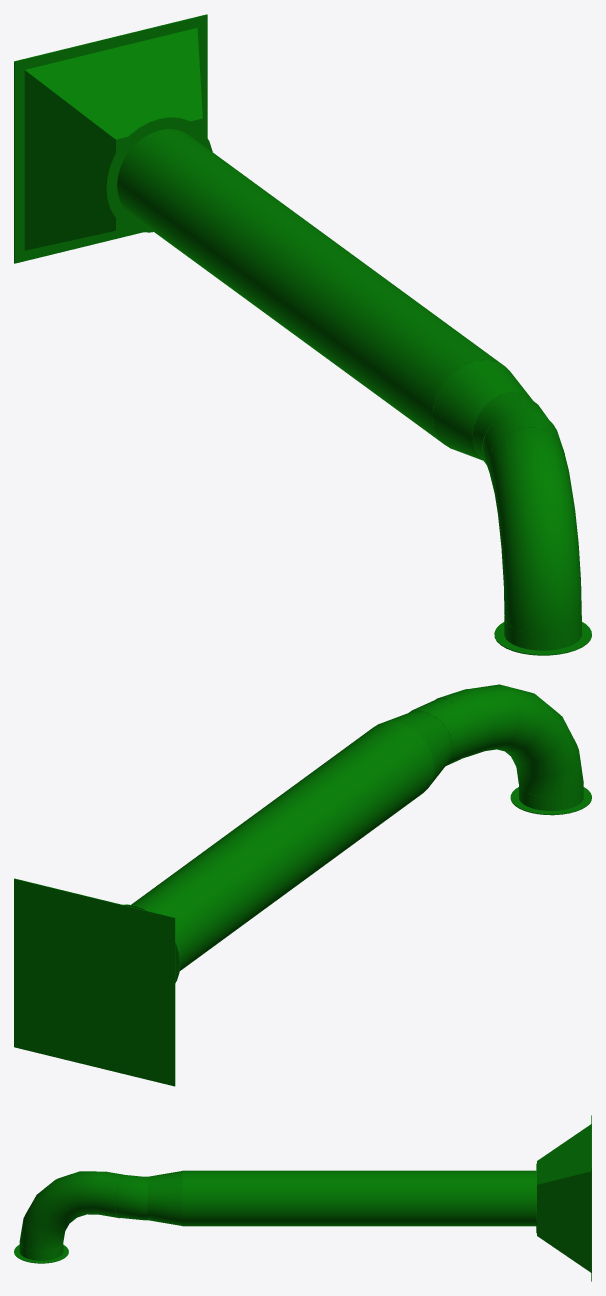
The model's file is Image-1710907700850-2280725732608_77-GA54-EXT-DUCT-CER.fbx.
3 views of the same model, one above another, from view 1: azimuth 30°, elevation 25°; view 2: azimuth 150°, elevation 25°; view 3: azimuth 270°, elevation 25° (orthographic). The views are drawn at different scales.
Visible parts, largest first — view 1: CYLINDER 3 of EQUIPMENT /77-GA54-EXT-DUCT-CER, PYRAMID 1 of EQUIPMENT /77-GA54-EXT-DUCT-CER, CTORUS 1 of EQUIPMENT /77-GA54-EXT-DUCT-CER, BOX 1 of EQUIPMENT /77-GA54-EXT-DUCT-CER, CONE 1 of EQUIPMENT /77-GA54-EXT-DUCT-CER, CYLINDER 5 of EQUIPMENT /77-GA54-EXT-DUCT-CER, CTORUS 2 of EQUIPMENT /77-GA54-EXT-DUCT-CER, CYLINDER 4 of EQUIPMENT /77-GA54-EXT-DUCT-CER, CYLINDER 1 of EQUIPMENT /77-GA54-EXT-DUCT-CER, CYLINDER 2 of EQUIPMENT /77-GA54-EXT-DUCT-CER; view 2: BOX 1 of EQUIPMENT /77-GA54-EXT-DUCT-CER, CYLINDER 3 of EQUIPMENT /77-GA54-EXT-DUCT-CER, CTORUS 1 of EQUIPMENT /77-GA54-EXT-DUCT-CER, CYLINDER 4 of EQUIPMENT /77-GA54-EXT-DUCT-CER, CONE 1 of EQUIPMENT /77-GA54-EXT-DUCT-CER, CTORUS 2 of EQUIPMENT /77-GA54-EXT-DUCT-CER, CYLINDER 1 of EQUIPMENT /77-GA54-EXT-DUCT-CER, CYLINDER 2 of EQUIPMENT /77-GA54-EXT-DUCT-CER; view 3: CYLINDER 3 of EQUIPMENT /77-GA54-EXT-DUCT-CER, PYRAMID 1 of EQUIPMENT /77-GA54-EXT-DUCT-CER, CTORUS 1 of EQUIPMENT /77-GA54-EXT-DUCT-CER, CONE 1 of EQUIPMENT /77-GA54-EXT-DUCT-CER, CTORUS 2 of EQUIPMENT /77-GA54-EXT-DUCT-CER, CYLINDER 4 of EQUIPMENT /77-GA54-EXT-DUCT-CER, CYLINDER 1 of EQUIPMENT /77-GA54-EXT-DUCT-CER, CYLINDER 2 of EQUIPMENT /77-GA54-EXT-DUCT-CER.
Boxes of the visible parts, x1=… form: CYLINDER 3 of EQUIPMENT /77-GA54-EXT-DUCT-CER: x1=117, y1=129, x2=508, y2=446; PYRAMID 1 of EQUIPMENT /77-GA54-EXT-DUCT-CER: x1=24, y1=28, x2=202, y2=250; CTORUS 1 of EQUIPMENT /77-GA54-EXT-DUCT-CER: x1=488, y1=427, x2=581, y2=633; BOX 1 of EQUIPMENT /77-GA54-EXT-DUCT-CER: x1=14, y1=14, x2=207, y2=263; CONE 1 of EQUIPMENT /77-GA54-EXT-DUCT-CER: x1=432, y1=360, x2=532, y2=460; CYLINDER 5 of EQUIPMENT /77-GA54-EXT-DUCT-CER: x1=105, y1=117, x2=212, y2=232; CTORUS 2 of EQUIPMENT /77-GA54-EXT-DUCT-CER: x1=472, y1=392, x2=548, y2=464; CYLINDER 4 of EQUIPMENT /77-GA54-EXT-DUCT-CER: x1=483, y1=410, x2=562, y2=472; CYLINDER 1 of EQUIPMENT /77-GA54-EXT-DUCT-CER: x1=504, y1=615, x2=581, y2=650; CYLINDER 2 of EQUIPMENT /77-GA54-EXT-DUCT-CER: x1=494, y1=622, x2=591, y2=655; BOX 1 of EQUIPMENT /77-GA54-EXT-DUCT-CER: x1=14, y1=878, x2=175, y2=1086; CYLINDER 3 of EQUIPMENT /77-GA54-EXT-DUCT-CER: x1=131, y1=721, x2=434, y2=970; CTORUS 1 of EQUIPMENT /77-GA54-EXT-DUCT-CER: x1=468, y1=684, x2=583, y2=797; CYLINDER 4 of EQUIPMENT /77-GA54-EXT-DUCT-CER: x1=436, y1=689, x2=494, y2=758; CONE 1 of EQUIPMENT /77-GA54-EXT-DUCT-CER: x1=384, y1=711, x2=452, y2=786; CTORUS 2 of EQUIPMENT /77-GA54-EXT-DUCT-CER: x1=409, y1=698, x2=468, y2=765; CYLINDER 1 of EQUIPMENT /77-GA54-EXT-DUCT-CER: x1=519, y1=784, x2=583, y2=810; CYLINDER 2 of EQUIPMENT /77-GA54-EXT-DUCT-CER: x1=510, y1=787, x2=591, y2=815; CYLINDER 3 of EQUIPMENT /77-GA54-EXT-DUCT-CER: x1=182, y1=1170, x2=536, y2=1226; PYRAMID 1 of EQUIPMENT /77-GA54-EXT-DUCT-CER: x1=537, y1=1124, x2=591, y2=1272; CTORUS 1 of EQUIPMENT /77-GA54-EXT-DUCT-CER: x1=19, y1=1171, x2=104, y2=1251; CONE 1 of EQUIPMENT /77-GA54-EXT-DUCT-CER: x1=147, y1=1171, x2=182, y2=1225; CTORUS 2 of EQUIPMENT /77-GA54-EXT-DUCT-CER: x1=115, y1=1175, x2=147, y2=1220; CYLINDER 4 of EQUIPMENT /77-GA54-EXT-DUCT-CER: x1=94, y1=1171, x2=124, y2=1218; CYLINDER 1 of EQUIPMENT /77-GA54-EXT-DUCT-CER: x1=19, y1=1243, x2=63, y2=1260; CYLINDER 2 of EQUIPMENT /77-GA54-EXT-DUCT-CER: x1=14, y1=1244, x2=68, y2=1263.
Bounding box in the file's own units: 0.9155 × 4.16 × 1.
